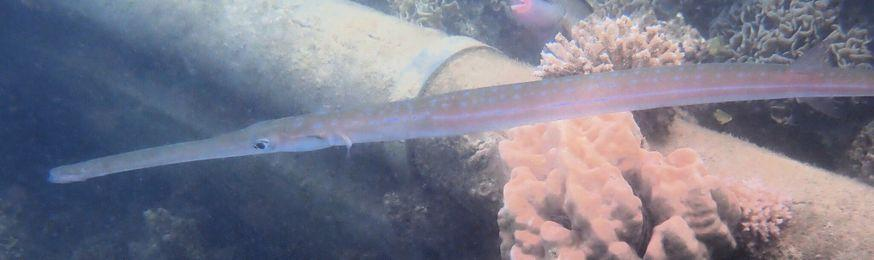Fistularia commersonii: (46, 59, 873, 185)
